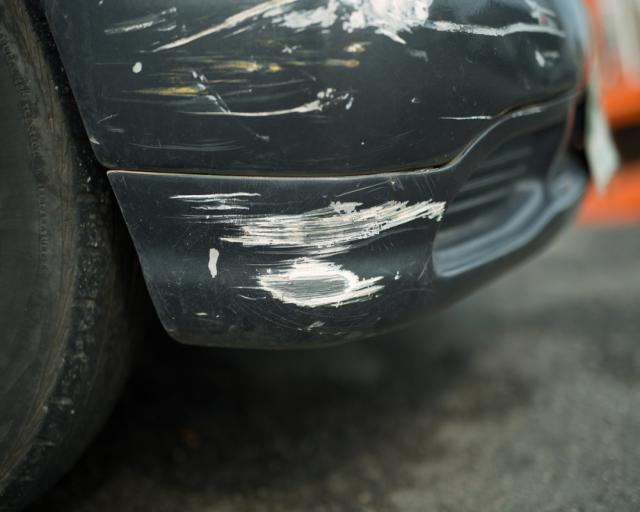scratch: (91, 0, 572, 150), (175, 181, 448, 325)
